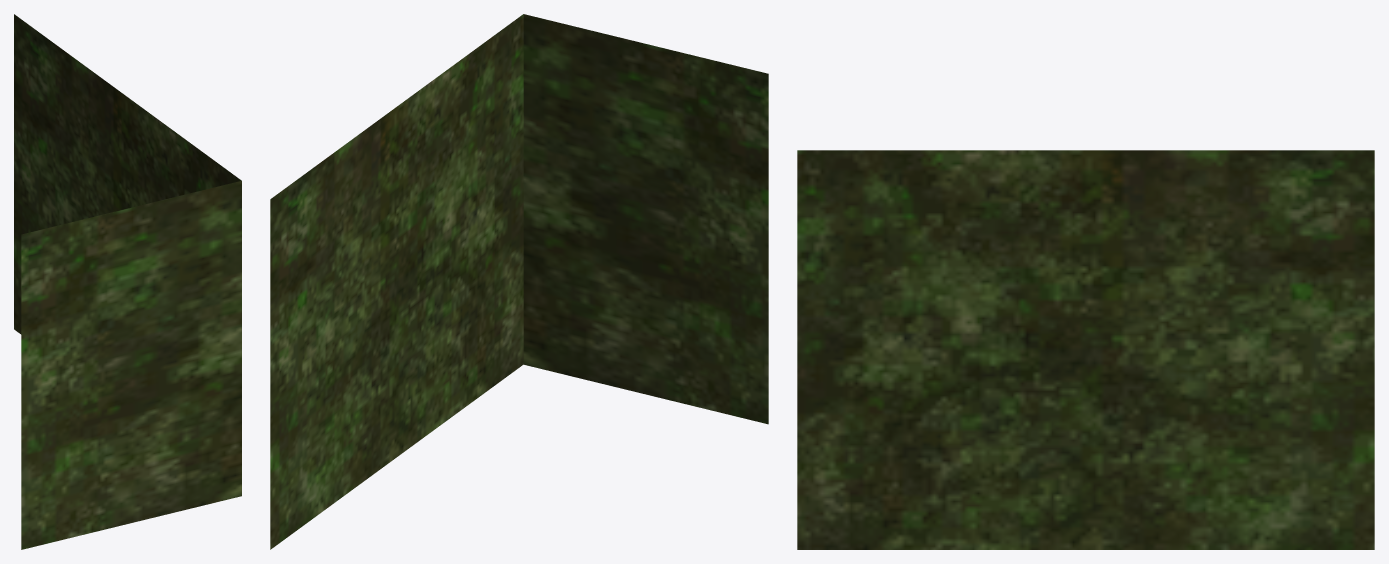
The model's file is OVERHILL_A_01_OBJECT96.fbx.
3 views of the same model, side by side, from view 1: azimuth 30°, elevation 25°; view 2: azimuth 150°, elevation 25°; view 3: azimuth 270°, elevation 25° (orthographic). The views are drawn at different scales.
Visible parts, largest first — view 1: OVERHILL_A_01_OBJECT96; view 2: OVERHILL_A_01_OBJECT96; view 3: OVERHILL_A_01_OBJECT96.
Boxes of the visible parts, x1,y1,x2,y2 form: OVERHILL_A_01_OBJECT96: (14,14,241,549); OVERHILL_A_01_OBJECT96: (270,14,768,549); OVERHILL_A_01_OBJECT96: (797,150,1374,549).
Bounding box in the file's own units: 16852 × 23033 × 30148.
1 material, 1 textured.
